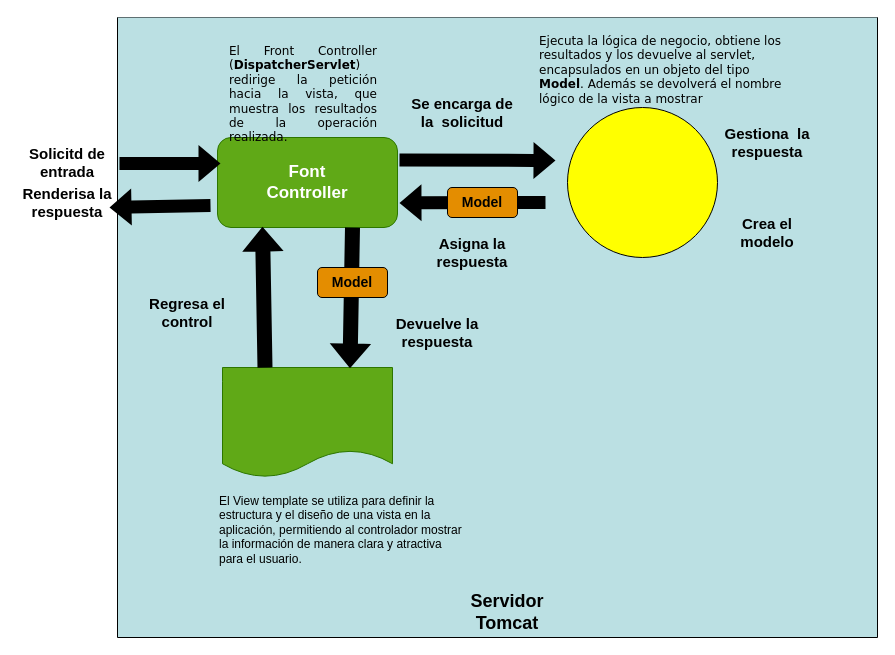
The diagram is 895 pixels wide and 655 high, and some of its shapes have lost their labels. Here are the shapes that lost their labels. From the top down, the centre of each, then its label:
At [642,182]: "Controller".
At [307,422]: "View template".
